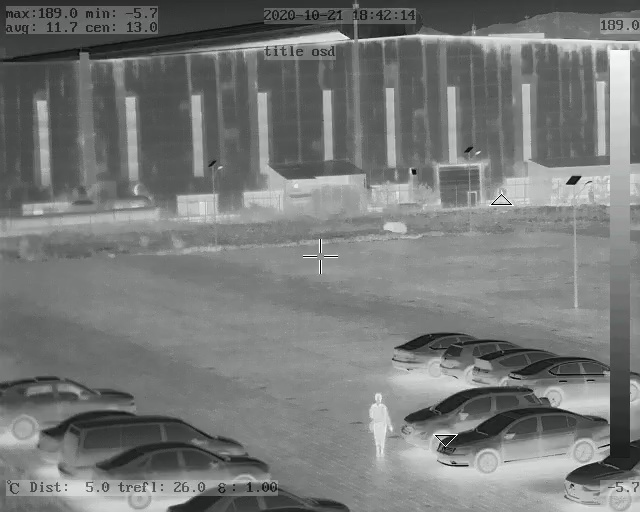person: (368, 392, 394, 458)
vehicle: (38, 414, 252, 469), (445, 411, 609, 478), (104, 436, 278, 498), (6, 378, 138, 437), (400, 385, 534, 441), (561, 440, 640, 509), (170, 485, 344, 512), (511, 358, 613, 404), (393, 328, 457, 372), (475, 347, 545, 387), (439, 338, 504, 380)
